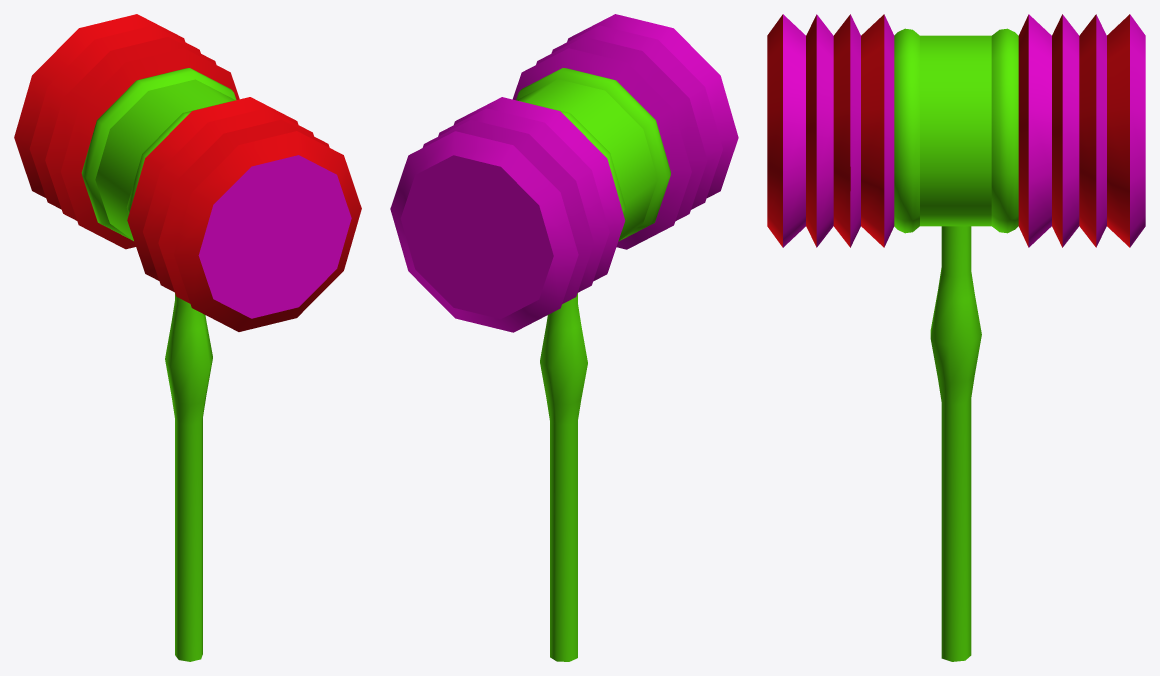
Rendered from Baby_Hammer.fbx.
3 views of the same model, side by side, from view 1: azimuth 30°, elevation 25°; view 2: azimuth 150°, elevation 25°; view 3: azimuth 270°, elevation 25° (orthographic). The views are drawn at different scales.
Parts seen in each view (by area): view 1: Baby_Hammer; view 2: Baby_Hammer; view 3: Baby_Hammer.
Boxes of the visible parts, box(x1,y1,x2,y2) form: Baby_Hammer: box(14, 14, 361, 661); Baby_Hammer: box(390, 14, 738, 661); Baby_Hammer: box(767, 14, 1145, 661).
Bounding box in the file's own units: 0.7519 × 2.2 × 1.21.
